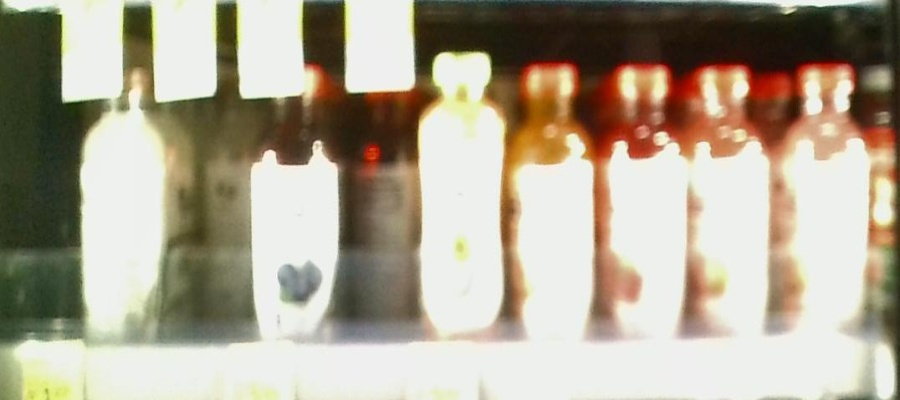bottle: (415, 48, 508, 333), (778, 61, 870, 340), (78, 62, 168, 342), (601, 62, 689, 340), (253, 66, 340, 340), (510, 63, 596, 339), (691, 57, 774, 340), (345, 64, 411, 304), (194, 68, 248, 313)
